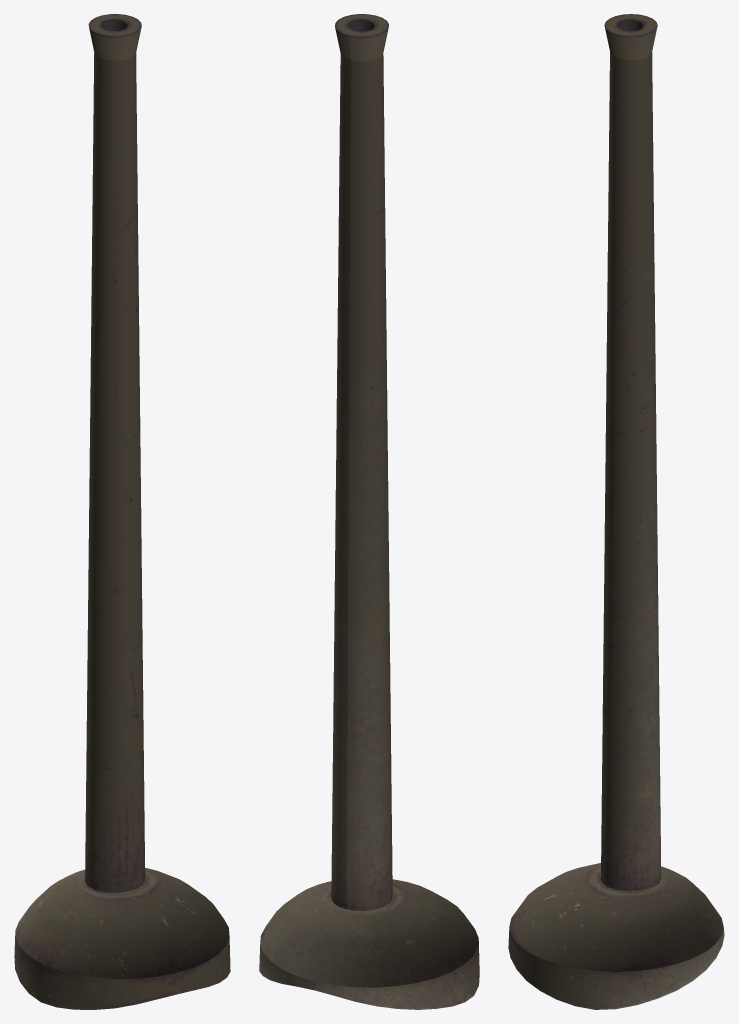
Rendered from Gun_03.glb.
3 renders of one model, left to right at view 1: azimuth 30°, elevation 25°; view 2: azimuth 150°, elevation 25°; view 3: azimuth 270°, elevation 25°, orthographic. The views are drawn at different scales.
Parts seen in each view (by area): view 1: set_0_group_0; view 2: set_0_group_0; view 3: set_0_group_0.
Part boxes in pixels (x1,y1,x2,y2): set_0_group_0: [14, 14, 230, 1009]; set_0_group_0: [259, 14, 479, 1009]; set_0_group_0: [508, 14, 724, 1009].
Bounding box in the file's own units: 0.6309 × 3.03 × 0.6309.
Materials: 1 (1 with a texture image).
